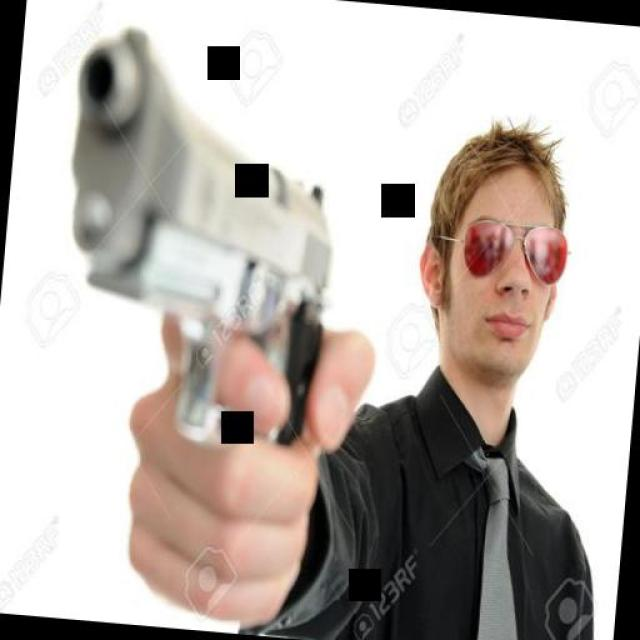gun: (21, 30, 342, 621)
